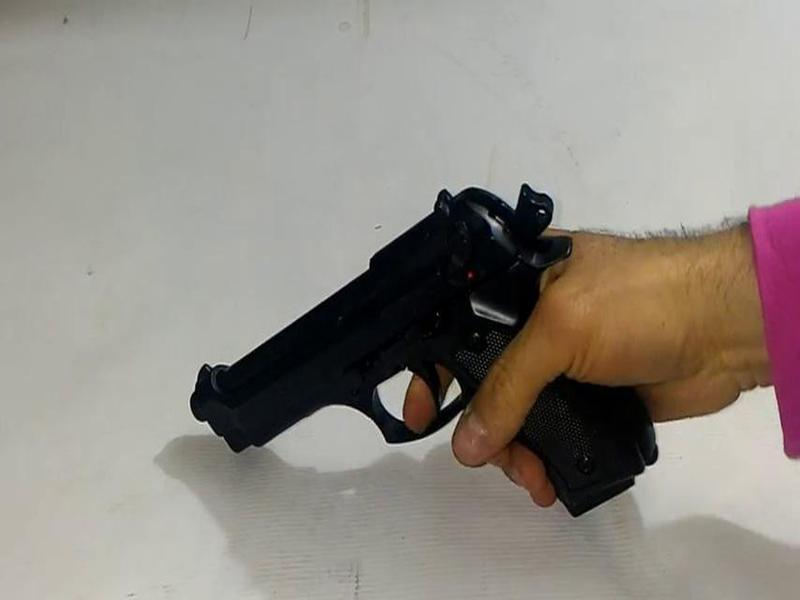Pistola: (167, 166, 684, 522)
